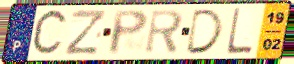C: (29, 7, 70, 60)
D: (184, 8, 226, 56)
L: (224, 7, 254, 56)
P: (107, 9, 150, 57)
R: (143, 8, 185, 56)
Z: (63, 9, 108, 57)
